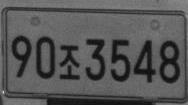0: (35, 35, 55, 79)
3: (85, 37, 106, 80)
4: (132, 38, 156, 83)
5: (109, 38, 131, 81)
8: (158, 39, 181, 83)
9: (10, 34, 32, 78)
조: (58, 44, 80, 80)
